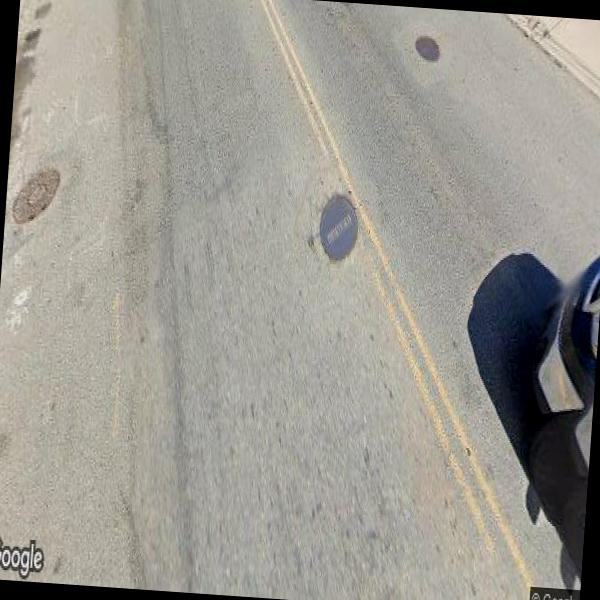manhole: (5, 160, 66, 231), (314, 184, 364, 270), (406, 26, 448, 70)
